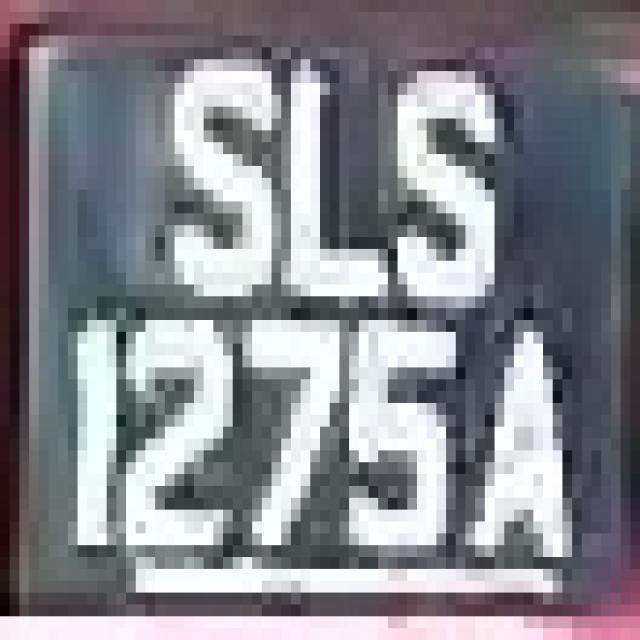1: (39, 237, 145, 569)
2: (106, 284, 232, 604)
5: (330, 308, 456, 593)
7: (223, 249, 320, 604)
A: (436, 272, 582, 580)
L: (262, 48, 398, 284)
S: (349, 35, 514, 332), (146, 12, 272, 296)
